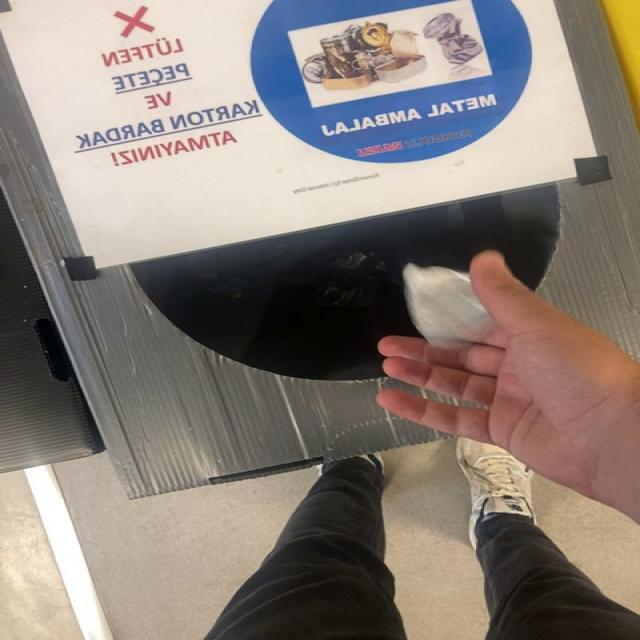bin: (0, 0, 637, 498)
metal: (403, 263, 495, 346)
